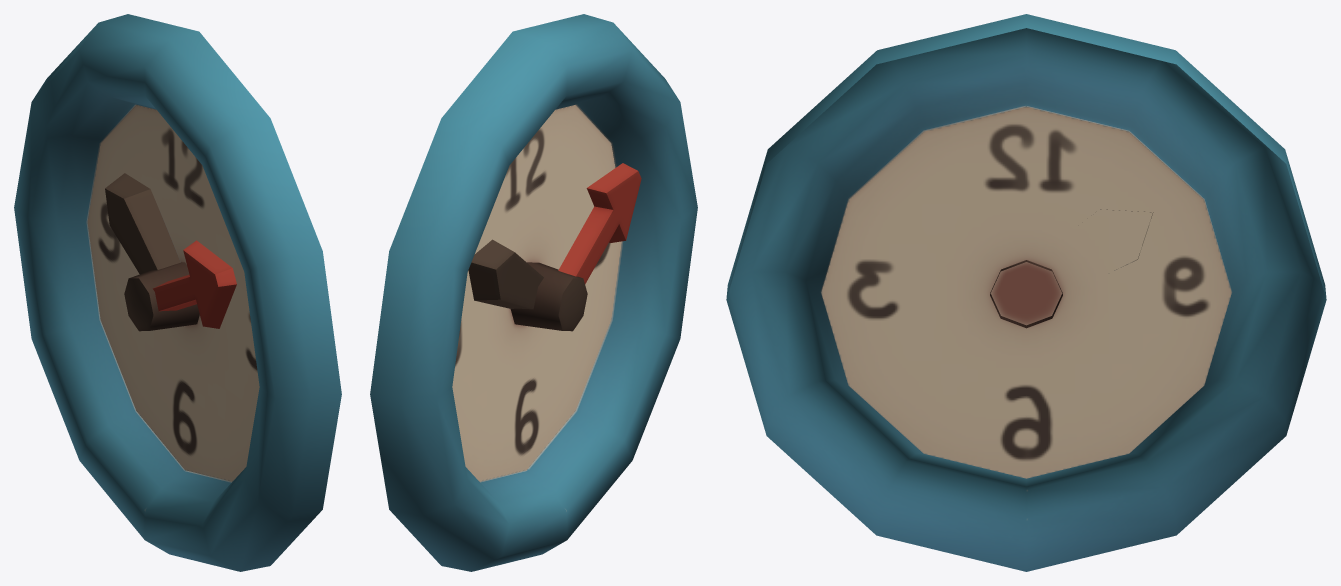
File: clock_01.fbx
The picture shows the model from 3 angles, left to right: view 1: azimuth 30°, elevation 25°; view 2: azimuth 150°, elevation 25°; view 3: azimuth 270°, elevation 25°; orthographic projection. The views are drawn at different scales.
Visible parts, largest first — view 1: clock_01_ready; view 2: clock_01_ready; view 3: clock_01_ready.
Boxes of the visible parts, <box> form: clock_01_ready: <box>14,14,341,571</box>; clock_01_ready: <box>370,14,697,571</box>; clock_01_ready: <box>726,14,1326,571</box>.
Bounding box in the file's own units: 6.1 × 46.21 × 46.21.
